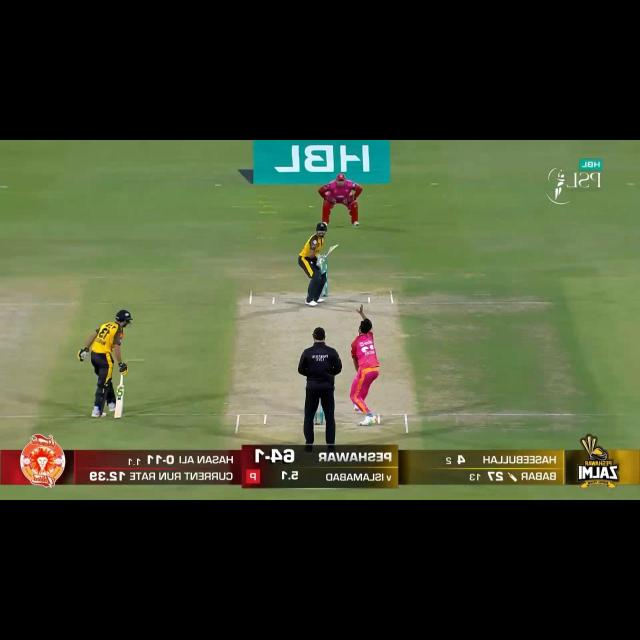bat: (113, 386, 125, 418), (324, 243, 339, 256)
toe: (114, 413, 123, 418), (334, 244, 338, 247)
